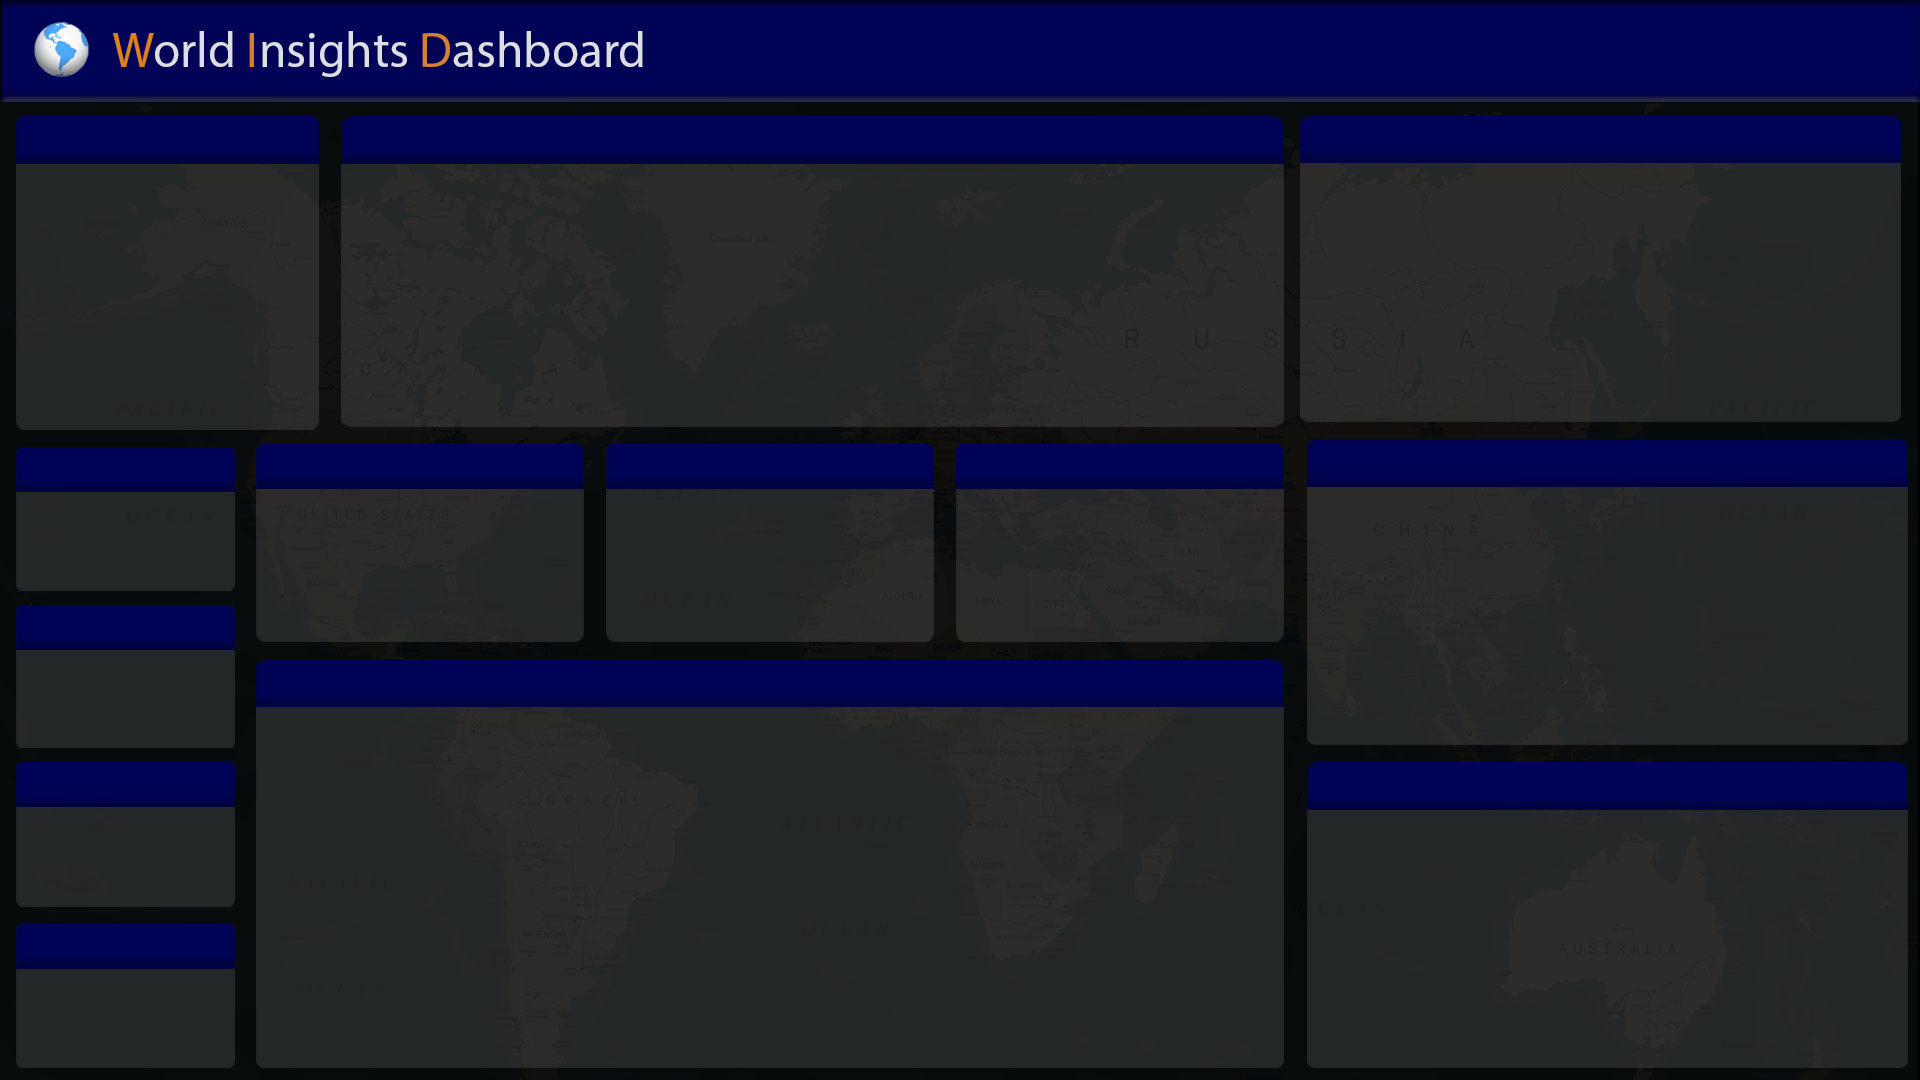

The dashboard page shown, as its layout file describes it:
{"tool":"powerbi","page":{"name":"Global Overview","canvas":[1280,720],"ordinal":1},"visuals":[{"type":"slicer","fields":{"Values":["dCalendario.Date.Variation.Hierarquia de datas.Ano"]},"box":[874,11.4,405,42.1],"z":0},{"type":"slicer","fields":{"Values":["PLANILHA_PAISES.Continente"]},"box":[0,74.6,1280,31.6],"z":1000},{"type":"map","fields":{"Category":["PLANILHA_PAISES.País"],"Size":["Medidas.Valor Selecionado"]},"box":[29.9,429.4,1222.2,272.2],"z":2000},{"type":"slicer","fields":{"Values":["Indicador.Indicador"]},"box":[7.9,391.6,1262.6,42.1],"z":3000},{"type":"tableEx","fields":{"Values":["PLANILHA_PAISES.CountryFlag","PLANILHA_PAISES.País","PLANILHA_PAISES.Espectativa de Vida"]},"box":[25.5,149.3,393.4,223],"z":4000},{"type":"image","box":[389.9,112.4,35.1,35.1],"z":5000},{"type":"textbox","box":[30.7,116.8,256.4,30.7],"z":6000},{"type":"tableEx","fields":{"Values":["PLANILHA_PAISES.CountryFlag","PLANILHA_PAISES.País","PLANILHA_PAISES.Índice de Felicidade"]},"box":[862.4,148.4,388.1,223],"z":7000},{"type":"image","box":[1216.2,112.4,35.1,35.1],"z":8000},{"type":"textbox","box":[871.9,116,256.4,30.7],"z":9000},{"type":"textbox","box":[353,39.5,90.4,31.6],"z":10000},{"type":"tableEx","fields":{"Values":["PLANILHA_PAISES.CountryFlag","PLANILHA_PAISES.País","PLANILHA_PAISES.Nível de Corrupção"]},"box":[440.7,148.4,395.1,223],"z":11000},{"type":"image","box":[805.9,112.4,35.1,35.1],"z":12000},{"type":"textbox","box":[449.4,116,312.6,30.7],"z":13000},{"type":"actionButton","box":[839.4,12.3,44.8,40.4],"z":14001}]}

Visuals, with their boxes on the page's 1280x720 design canvas (x1, y1, x2, y2). These are canvas units, not pixel positions in the 1920x1080 screenshot, which may show the page scaled, cropped or inside an application window:
slicer - dCalendario.Date.Variation.Hierarquia de datas.Ano: 874 11 1279 54
slicer - PLANILHA_PAISES.Continente: 0 75 1280 106
map - PLANILHA_PAISES.País x Medidas.Valor Selecionado: 30 429 1252 702
slicer - Indicador.Indicador: 8 392 1270 434
tableEx - PLANILHA_PAISES.CountryFlag x PLANILHA_PAISES.País: 26 149 419 372
image: 390 112 425 148
textbox: 31 117 287 148
tableEx - PLANILHA_PAISES.CountryFlag x PLANILHA_PAISES.País: 862 148 1250 371
image: 1216 112 1251 148
textbox: 872 116 1128 147
textbox: 353 40 443 71
tableEx - PLANILHA_PAISES.CountryFlag x PLANILHA_PAISES.País: 441 148 836 371
image: 806 112 841 148
textbox: 449 116 762 147
actionButton: 839 12 884 53
